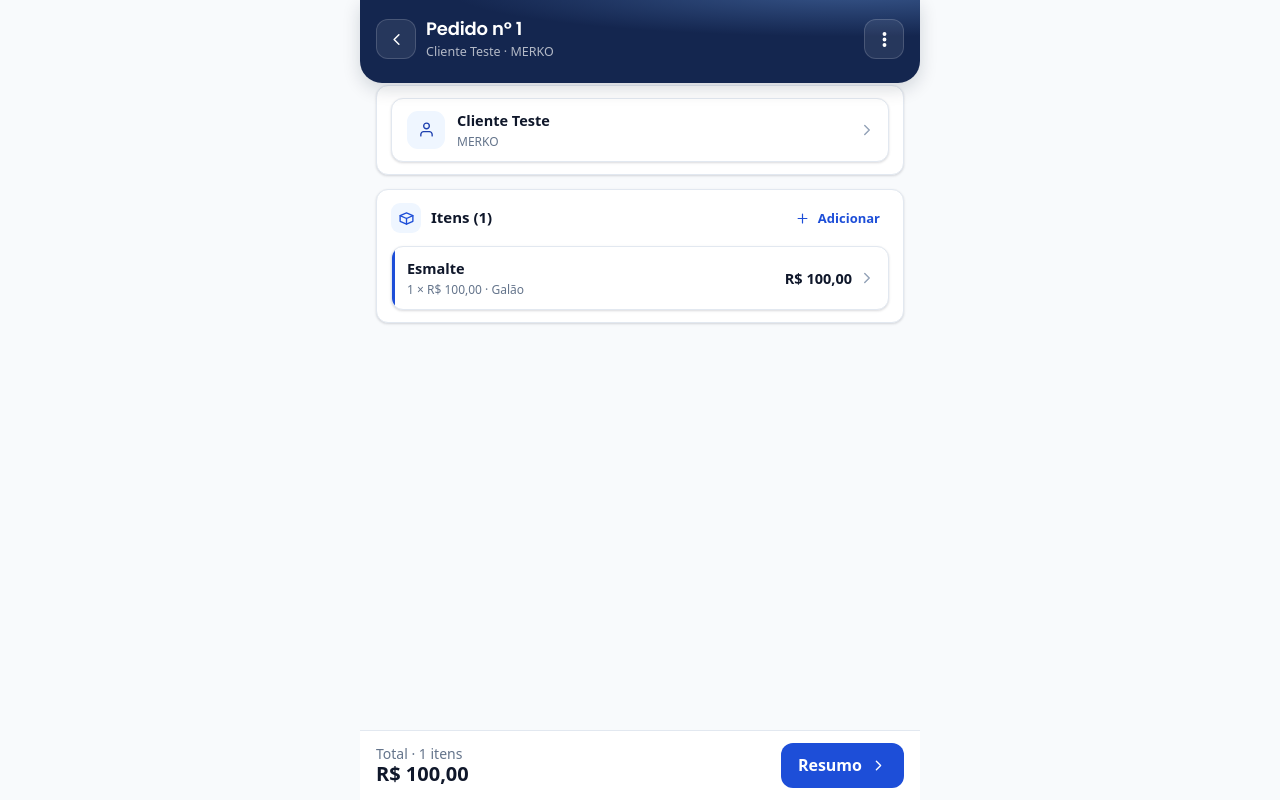
redesenho — comportamentos novos › pedido: o menu da capa leva para Finalizar
What coordinates should you click on to do the following:
click the button named "Mais ações do pedido"
I would click on:
 (884, 39)
Its box is [864,19,904,59].
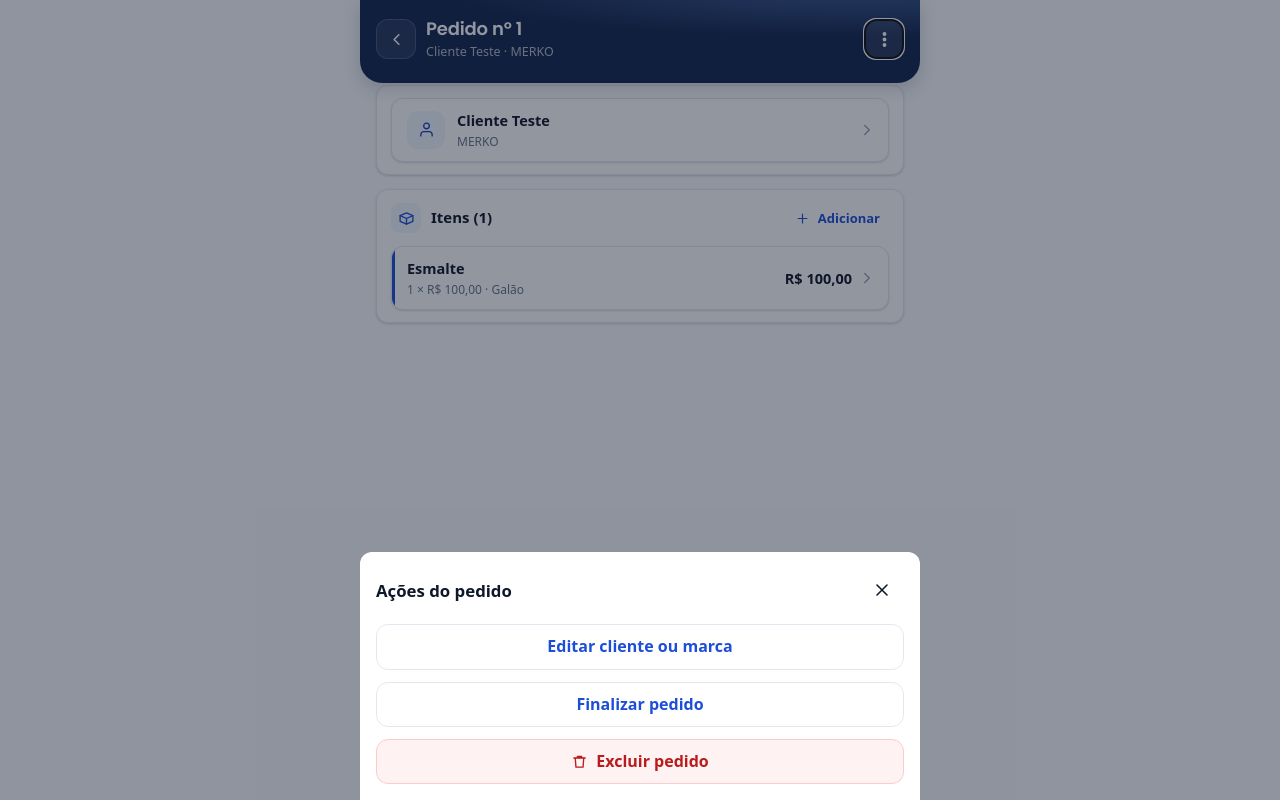
What coordinates should you click on to do the following:
click the button "Finalizar pedido"
I would click on:
 (640, 704)
Its box is [376,682,904,727].
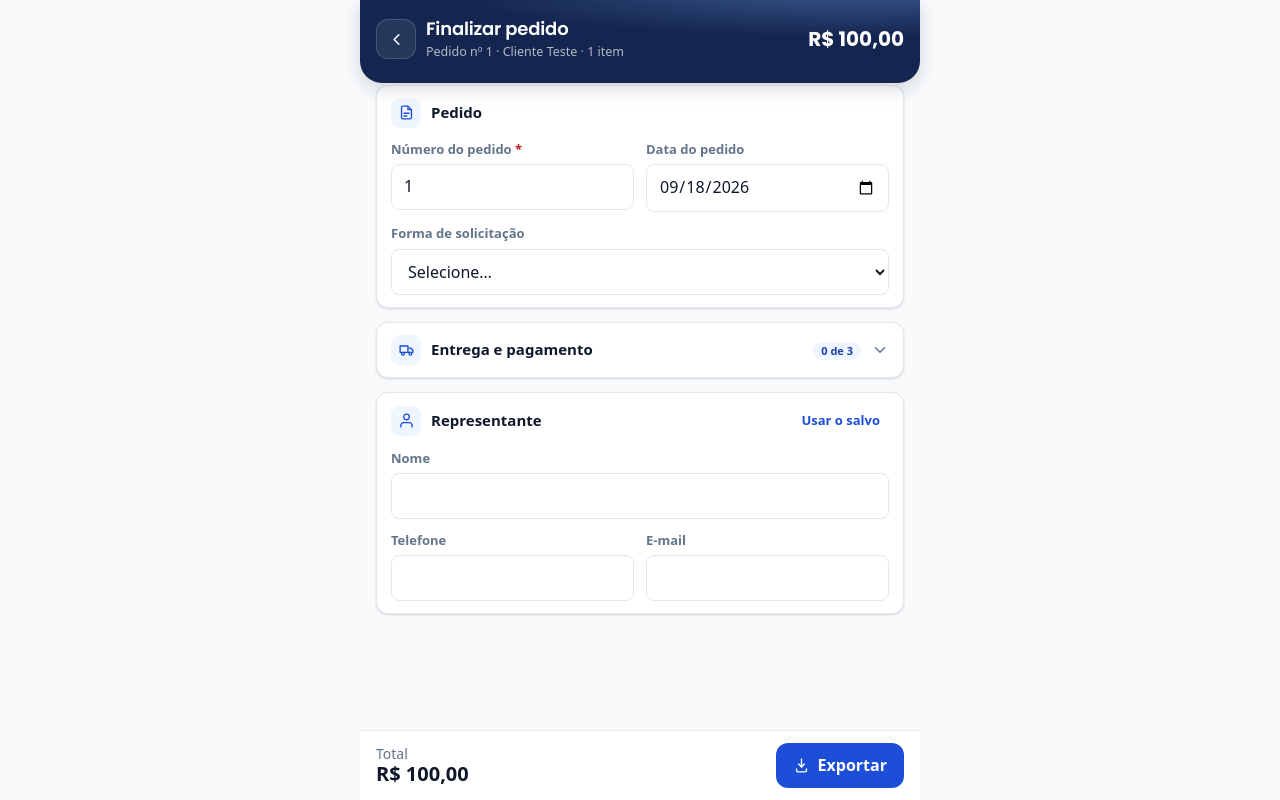
Check: the heading "Finalizar pedido" is shown, box [426,16,568,41]
